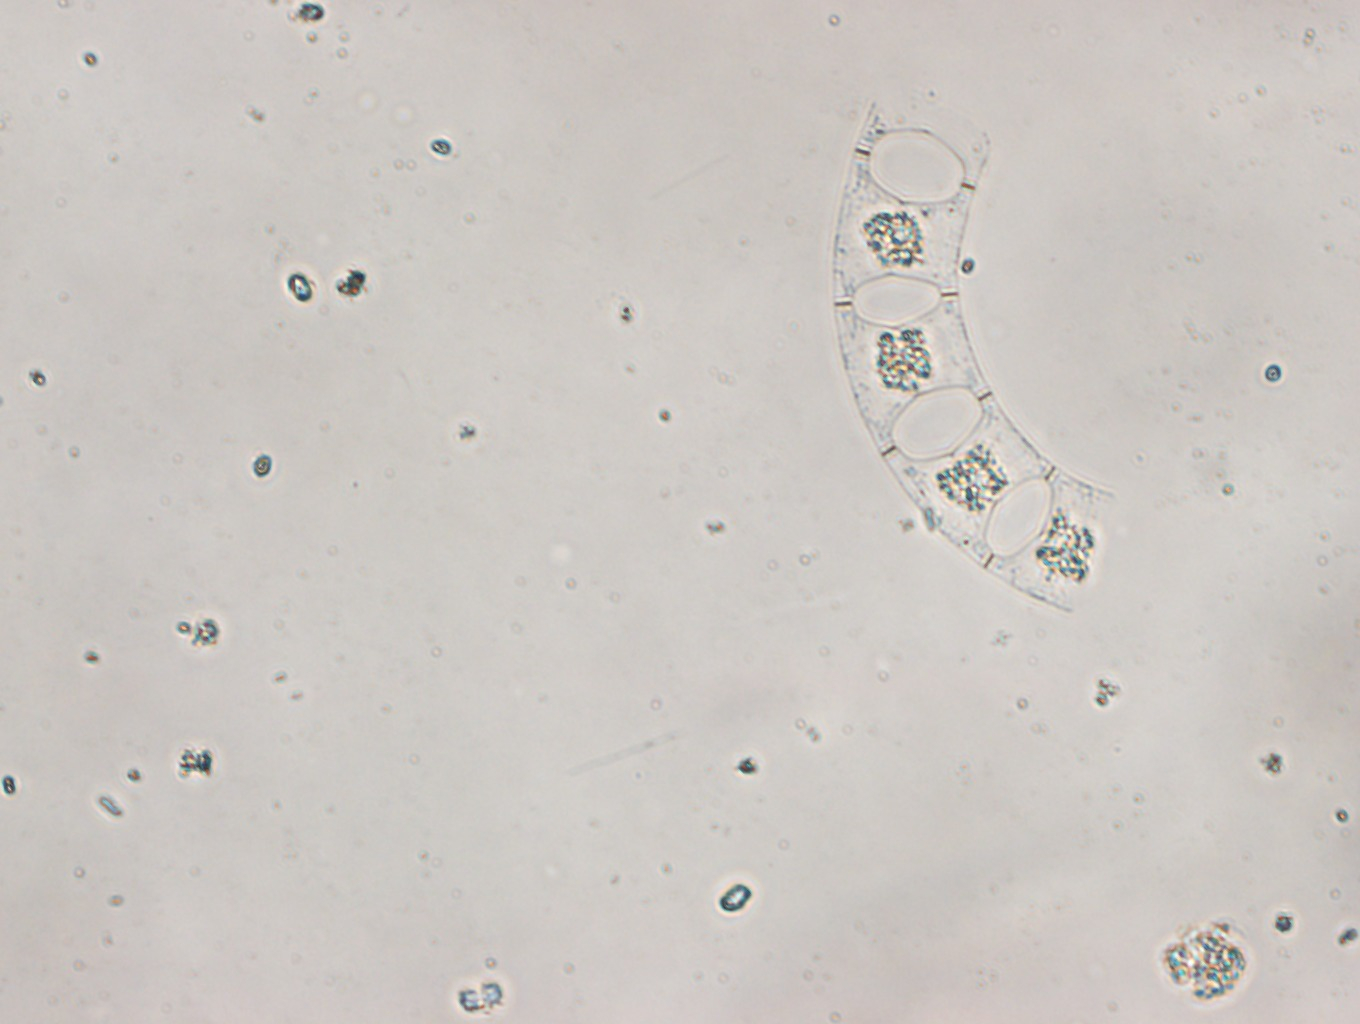eucampia: (831, 101, 1119, 613)
